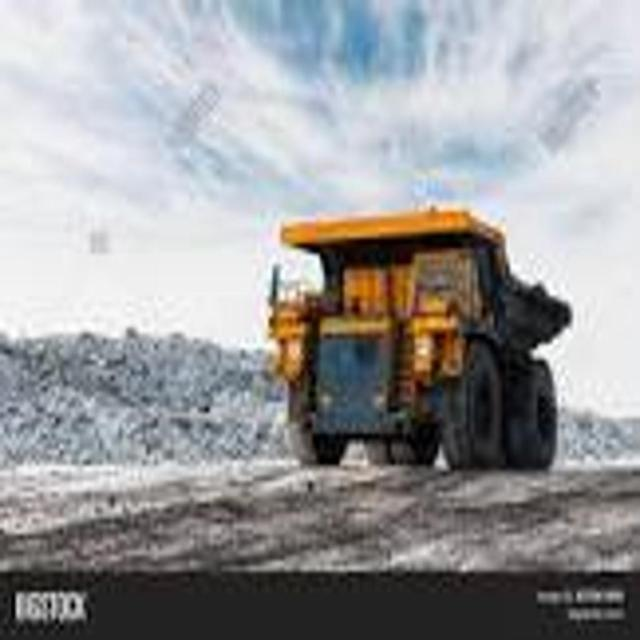dump_truck: (261, 170, 567, 490)
